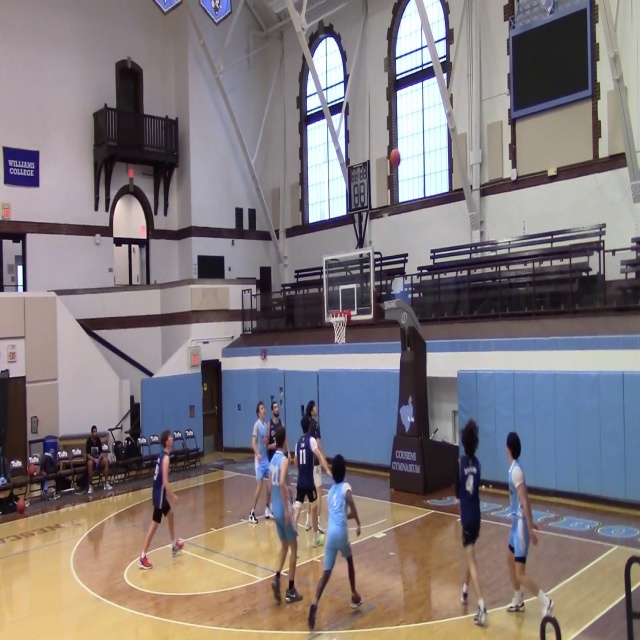Basketball: (389, 148, 400, 167), (16, 499, 25, 513), (27, 463, 36, 475), (177, 538, 184, 549)
